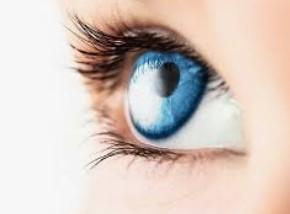eye: (127, 50, 206, 140)
